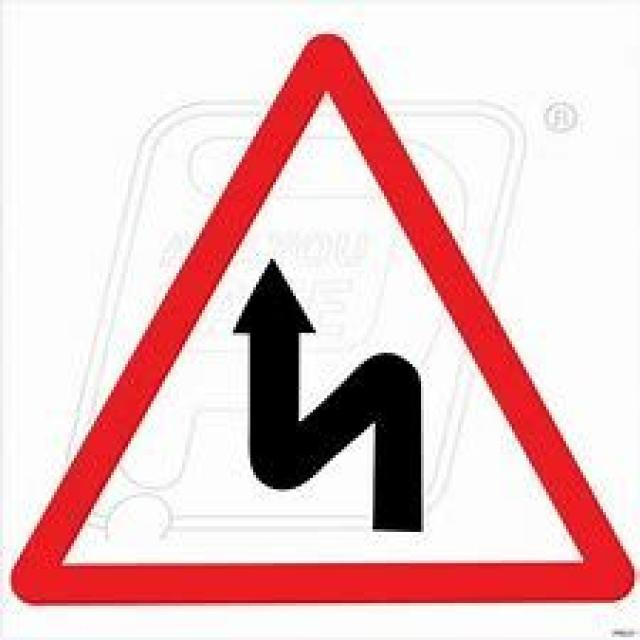left reverse bend: (33, 32, 605, 601)
